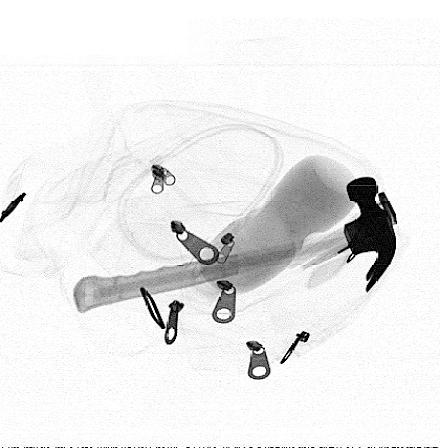Hammer: (72, 176, 397, 313)
